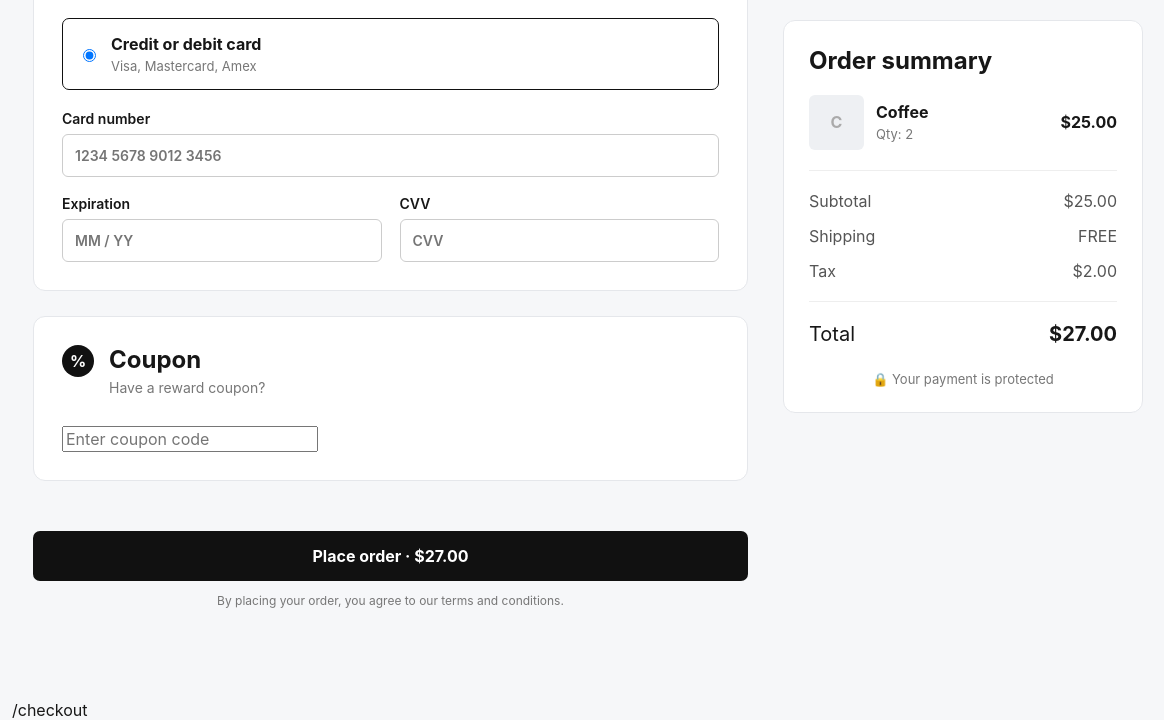
Test case: Checkout › submits a trimmed coupon code and navigates to order confirmation
(page scrolled)
In the field with placeholder "Enter coupon code": (190, 439) [62, 426, 318, 452], type " SAVE10 "
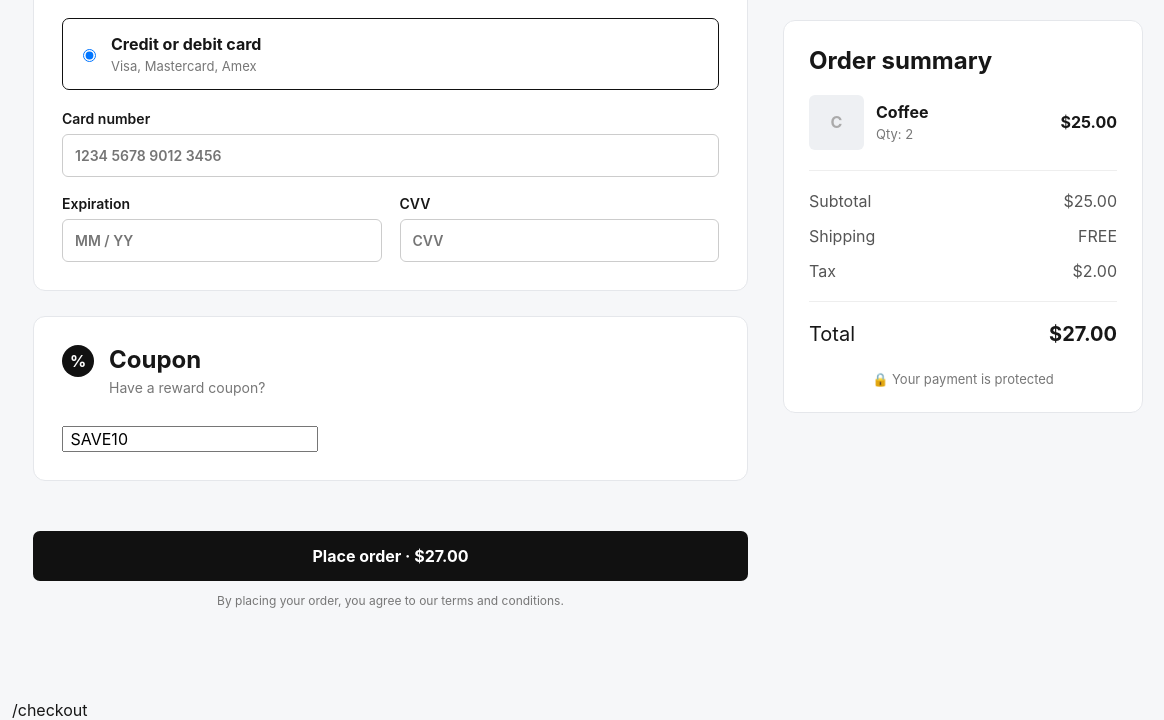
Click the button "Place order · $27.00": (390, 556) [33, 531, 748, 581]
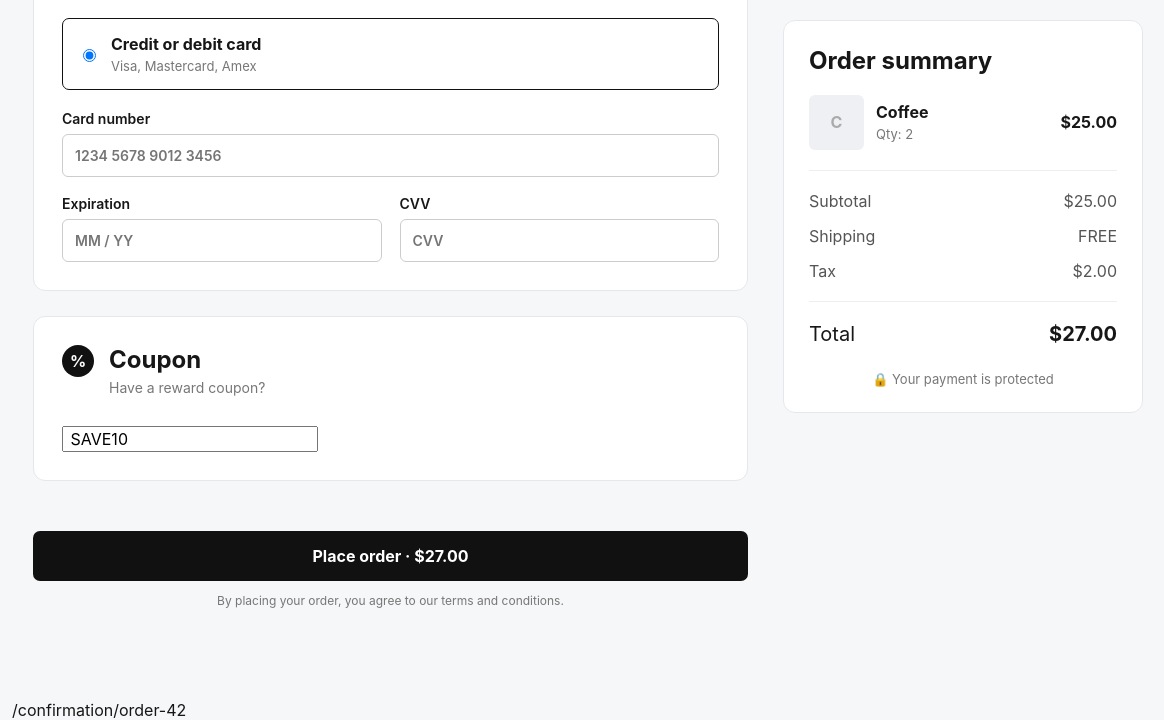
Now the text named "Current path" reads "/confirmation/order-42", box [12, 700, 186, 719]
